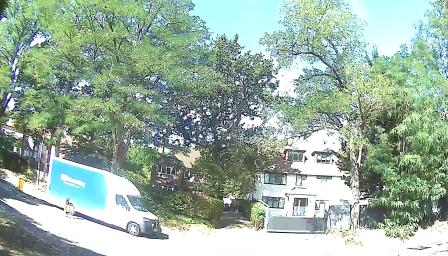Cars: (48, 150, 168, 240)
